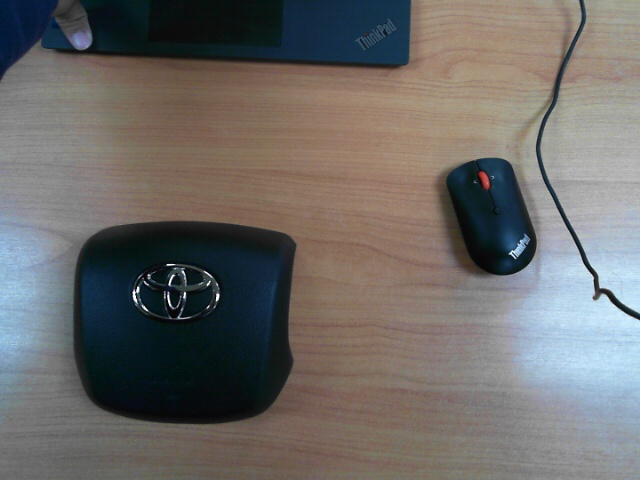AirbagV2: (72, 215, 295, 427)
